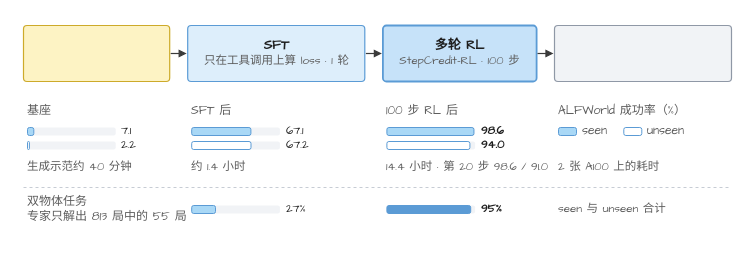
Some shapes in this 754 by 272 pixel diagram are drawn without their labels. Each missing label, with the centre of its shape:
专家示范 解出 2,145 / 3,553 局: the point at 96,53
配对评测 同一批任务 · McNemar 检验: the point at 642,53
